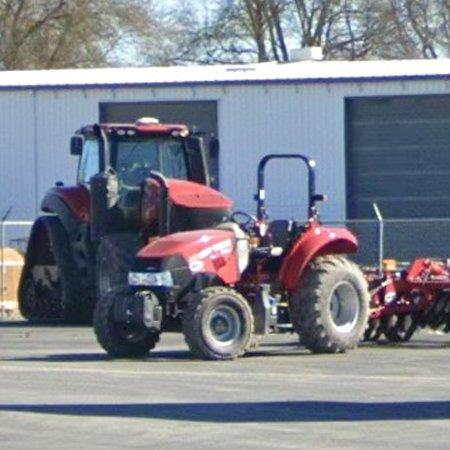tractors: (95, 155, 371, 360), (18, 117, 234, 324)
